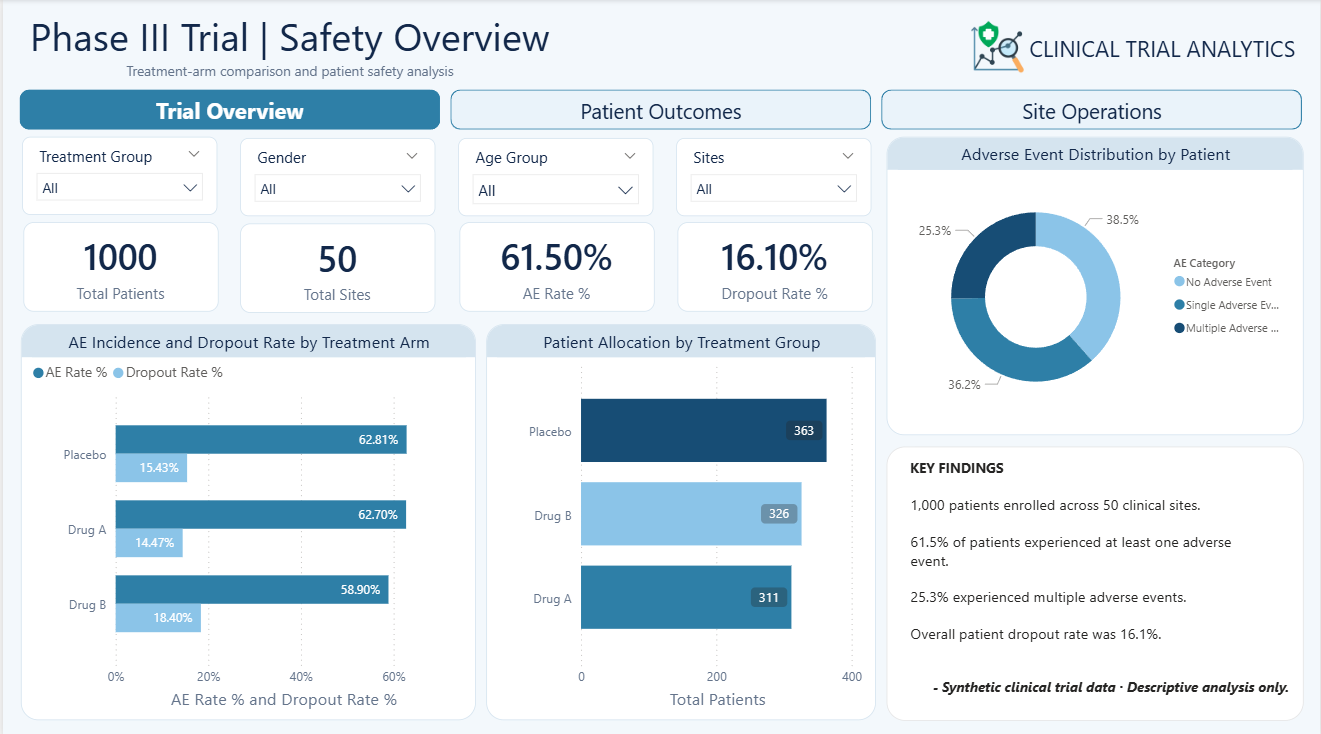

Layout of this report page (visuals, bound fields, positions):
{"tool":"powerbi","page":{"name":"Trial Overview","canvas":[1280,720],"ordinal":0},"visuals":[{"type":"slicer","fields":{"Values":["vw_patient_analysis.treatment_group"]},"box":[18.7,133.4,189.5,76.1],"z":0},{"type":"group","id":"g1","title":"Group 1","box":[2.9,5.6,1261.8,120.6],"z":1000},{"type":"textbox","box":[993.4,25.2,269.1,44.7],"z":1000,"group":"g2"},{"type":"textbox","box":[2.9,5.6,552.7,83.8],"z":2000,"group":"g1"},{"type":"slicer","fields":{"Values":["vw_patient_analysis.gender"]},"box":[230.6,134.6,189.5,76],"z":2000},{"type":"pageNavigator","box":[16.7,87.2,1248,39],"z":3000,"group":"g1"},{"type":"slicer","fields":{"Values":["vw_patient_analysis.age_group"]},"box":[442.6,134.6,189.5,76],"z":3000},{"type":"card","fields":{"Values":["Table.Total Patients"]},"box":[19.9,216.9,189.5,87.3],"z":4000},{"type":"slicer","fields":{"Values":["vw_patient_analysis.site_id"]},"box":[654.5,134.6,189.5,76],"z":5000},{"type":"card","fields":{"Values":["Table.Total Sites"]},"box":[230.6,218.2,189.5,87.3],"z":6000},{"type":"card","fields":{"Values":["Table.AE Rate %"]},"box":[443.8,216.9,189.5,87.3],"z":7000},{"type":"card","fields":{"Values":["Table.Dropout Rate %"]},"box":[655.8,216.9,189.5,87.3],"z":8000},{"type":"clusteredBarChart","title":"AE Incidence and Dropout Rate by Treatment Arm","fields":{"Category":["vw_patient_analysis.treatment_group"],"Y":["Table.AE Rate %","Table.Dropout Rate %"]},"box":[17.5,316.7,442.6,385.2],"z":9000},{"type":"donutChart","title":"Adverse Event Distribution by Patient","fields":{"Y":["Table.Total Patients"],"Category":["vw_patient_analysis.ae_category"]},"box":[859,133.4,405.2,290.5],"z":10000},{"type":"barChart","title":"Patient Allocation by Treatment Group","fields":{"Category":["vw_patient_analysis.treatment_group"],"Y":["Table.Total Patients"]},"box":[470,316.7,379,385.2],"z":11000},{"type":"textbox","box":[859,435.1,405.2,266.8],"z":12000},{"type":"image","box":[913,20.6,108.5,51.1],"z":13000,"group":"g2"},{"type":"group","id":"g2","title":"Group 2","box":[913,20.6,349.5,51.1],"z":13001,"group":"g1"}]}

Visuals, with their boxes in screenshot pixels (x1, y1, x2, y2), scaled from the page's 1280x720 canvas onto the 1321x734 screenshot:
slicer - vw_patient_analysis.treatment_group: box(19, 136, 215, 214)
"Group 1" group: box(3, 6, 1305, 129)
textbox: box(1025, 26, 1303, 71)
textbox: box(3, 6, 573, 91)
slicer - vw_patient_analysis.gender: box(238, 137, 434, 215)
pageNavigator: box(17, 89, 1305, 129)
slicer - vw_patient_analysis.age_group: box(457, 137, 652, 215)
card - Table.Total Patients: box(21, 221, 216, 310)
slicer - vw_patient_analysis.site_id: box(675, 137, 871, 215)
card - Table.Total Sites: box(238, 222, 434, 311)
card - Table.AE Rate %: box(458, 221, 654, 310)
card - Table.Dropout Rate %: box(677, 221, 872, 310)
"AE Incidence and Dropout Rate by Treatment Arm" clusteredBarChart: box(18, 323, 475, 716)
"Adverse Event Distribution by Patient" donutChart: box(887, 136, 1305, 432)
"Patient Allocation by Treatment Group" barChart: box(485, 323, 876, 716)
textbox: box(887, 444, 1305, 716)
image: box(942, 21, 1054, 73)
"Group 2" group: box(942, 21, 1303, 73)
